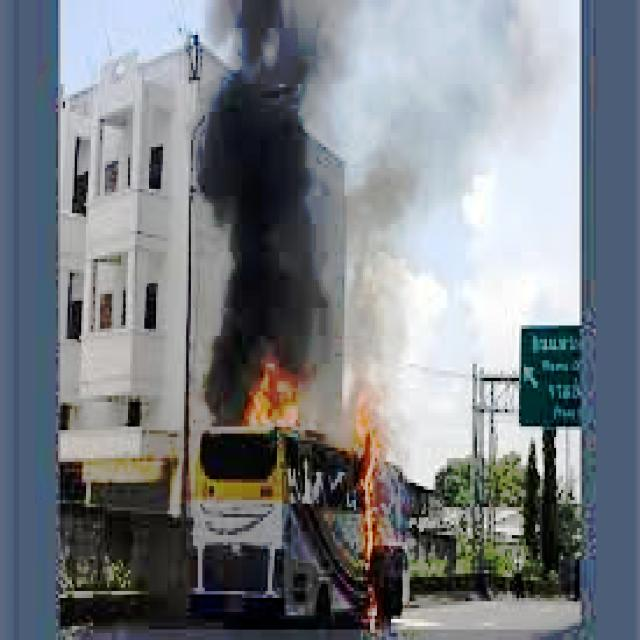api: (334, 375, 399, 634), (236, 351, 313, 442)
